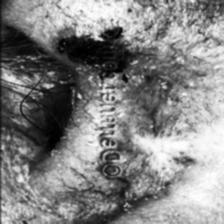Potentially Malignant Skin Tumors: (56, 28, 133, 78)
